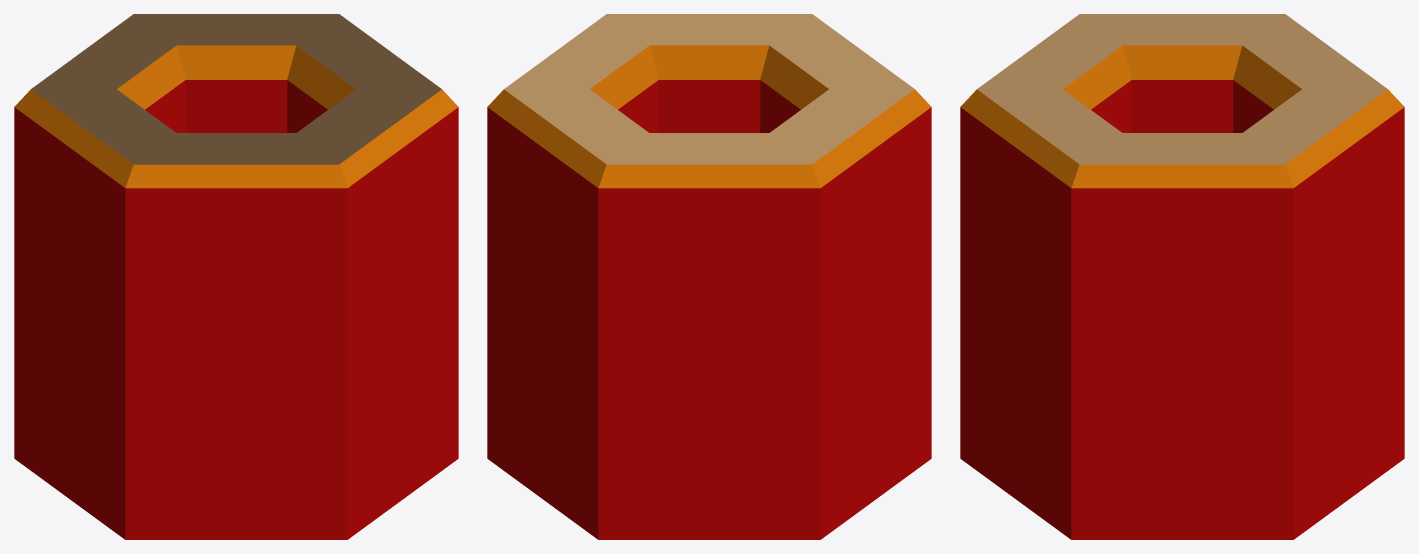
3 views of the same model, side by side, from view 1: azimuth 30°, elevation 25°; view 2: azimuth 150°, elevation 25°; view 3: azimuth 270°, elevation 25° (orthographic).
Parts seen in each view (by area): view 1: Joint_0_Object_1, Joint_0_Object_0; view 2: Joint_0_Object_1, Joint_0_Object_0; view 3: Joint_0_Object_1, Joint_0_Object_0.
Boxes of the visible parts, <box> form: Joint_0_Object_1: <box>14,45,458,539</box>; Joint_0_Object_0: <box>31,14,441,164</box>; Joint_0_Object_1: <box>487,45,931,539</box>; Joint_0_Object_0: <box>504,14,914,164</box>; Joint_0_Object_1: <box>960,45,1404,539</box>; Joint_0_Object_0: <box>977,14,1387,164</box>.
Bounding box in the file's own units: 133 × 140 × 153.
